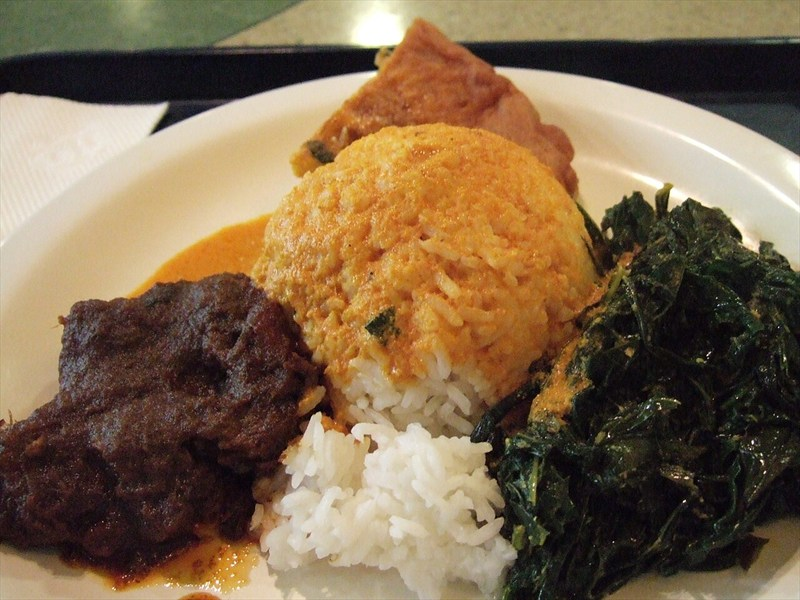Rendang: (122, 39, 698, 531)
